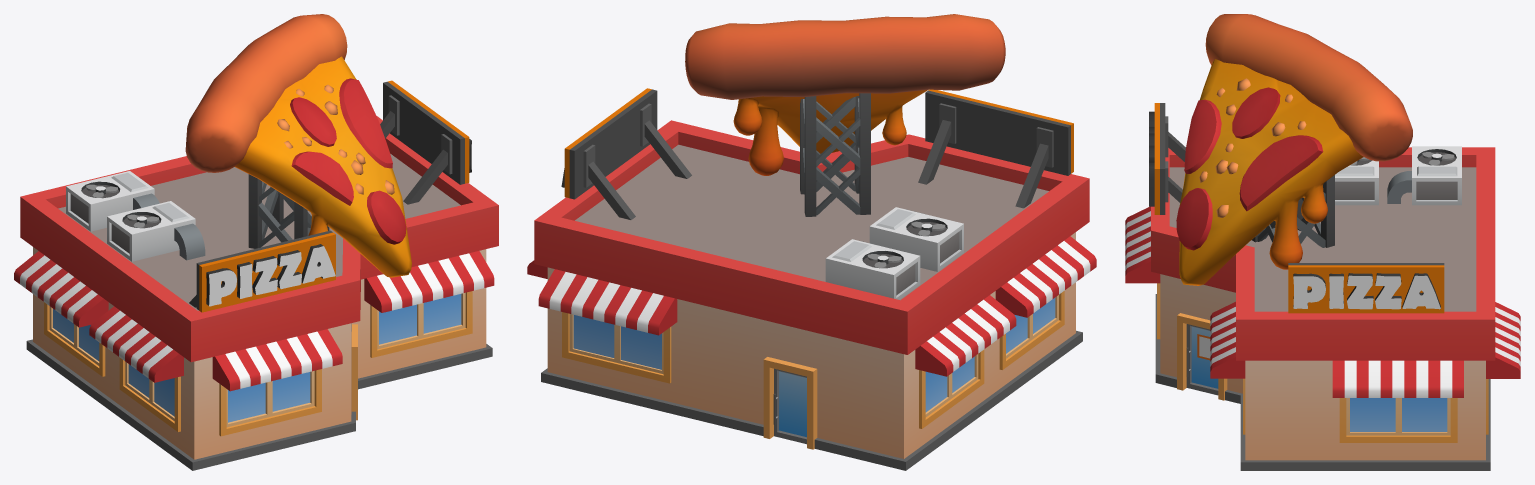
File: pizzeria_001.glb
3 renders of one model, left to right at view 1: azimuth 30°, elevation 25°; view 2: azimuth 150°, elevation 25°; view 3: azimuth 270°, elevation 25°, orthographic. The views are drawn at different scales.
Parts seen in each view (by area): view 1: pizzeria_001; view 2: pizzeria_001; view 3: pizzeria_001.
Boxes of the visible parts, bbox=[...] form: pizzeria_001: bbox=[14, 14, 498, 470]; pizzeria_001: bbox=[527, 14, 1096, 470]; pizzeria_001: bbox=[1125, 14, 1520, 470].
Bounding box in the file's own units: 13.51 × 10.6 × 11.65.
2 materials, 2 textured.
